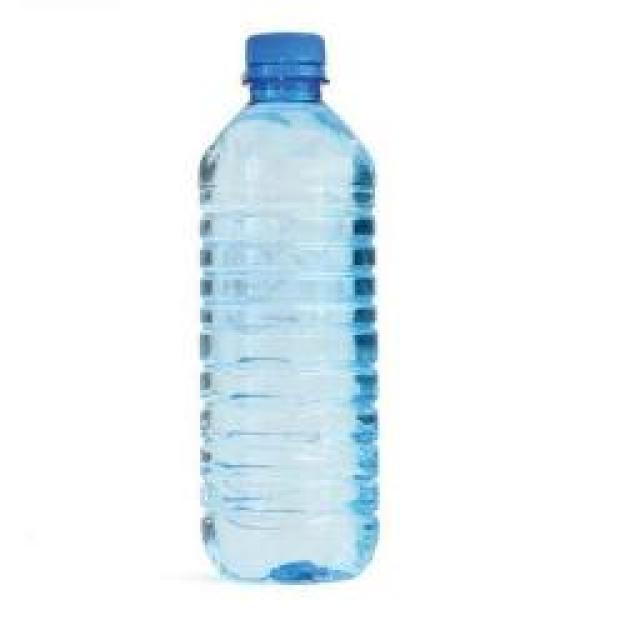bottle: (195, 32, 385, 582)
